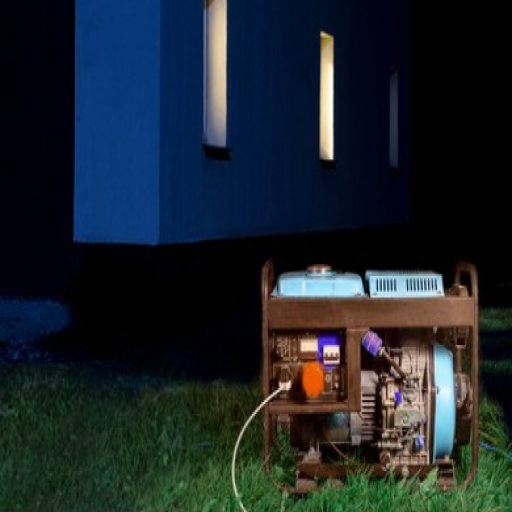portable_generator: (260, 257, 480, 490)
